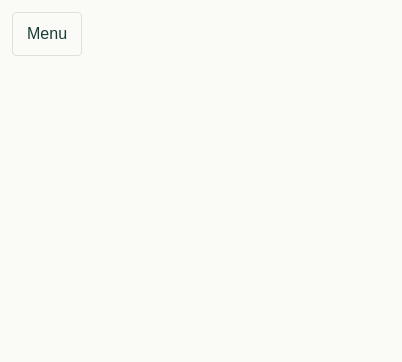
Scenario: marks the current page and closes the mobile menu with Escape
Click the button "Menu" at (47, 34), box [12, 12, 82, 56]
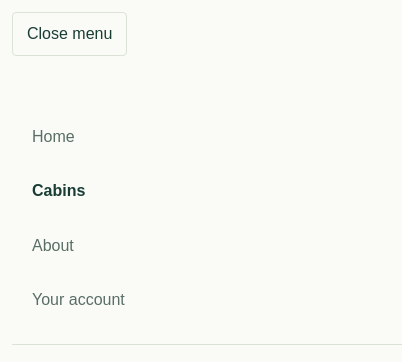
Expected: the button "Close menu" is expanded, [12, 12, 127, 56]
Press Escape
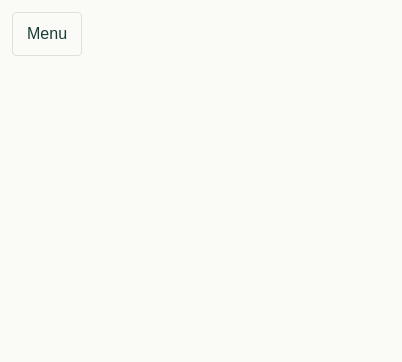
Expected: the button "Menu" is collapsed, [12, 12, 82, 56]
